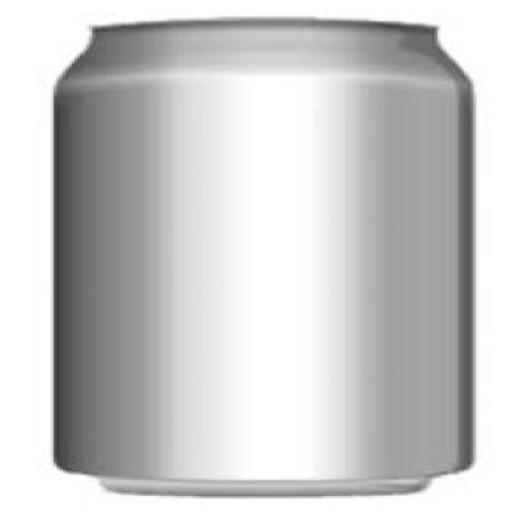metal: (57, 14, 476, 493)
